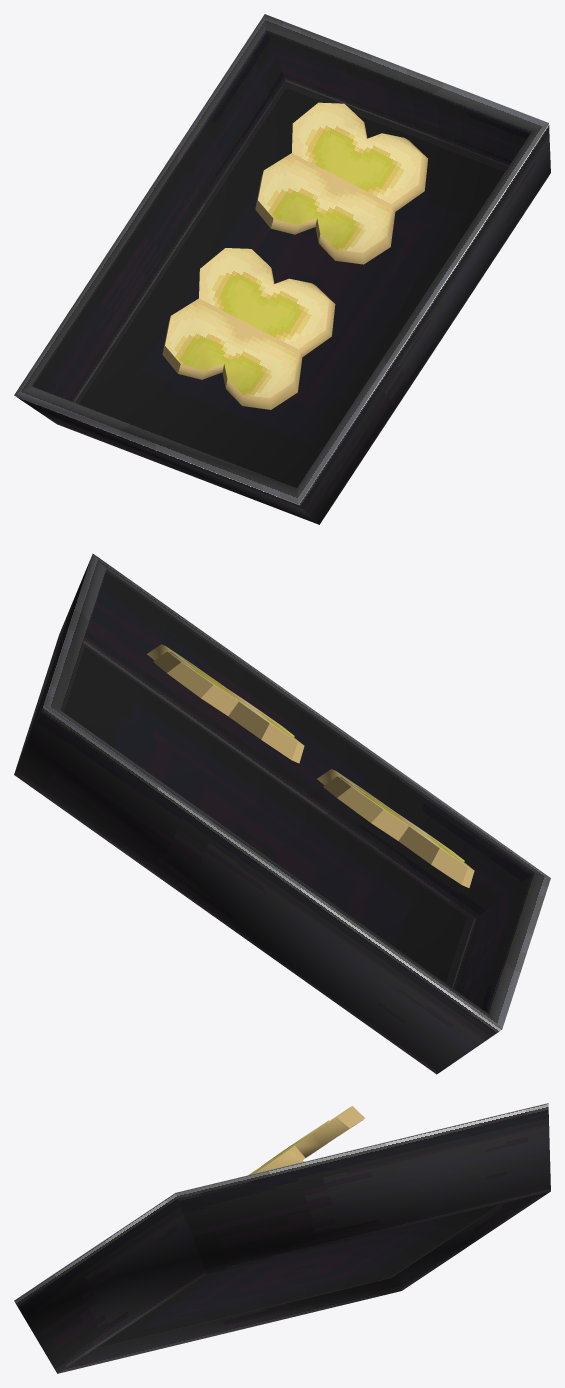
3 renders of one model, top to bottom at view 1: azimuth 30°, elevation 25°; view 2: azimuth 150°, elevation 25°; view 3: azimuth 270°, elevation 25°, orthographic. The views are drawn at different scales.
Parts seen in each view (by area): view 1: 2766item2766e; view 2: 2766item2766e; view 3: 2766item2766e.
Boxes of the visible parts, bbox=[...] form: 2766item2766e: bbox=[14, 14, 550, 524]; 2766item2766e: bbox=[14, 553, 550, 1074]; 2766item2766e: bbox=[14, 1103, 550, 1373].
Size of the model in its own units: 0.8972 by 0.5891 by 0.7962.
2 materials, 2 textured.
